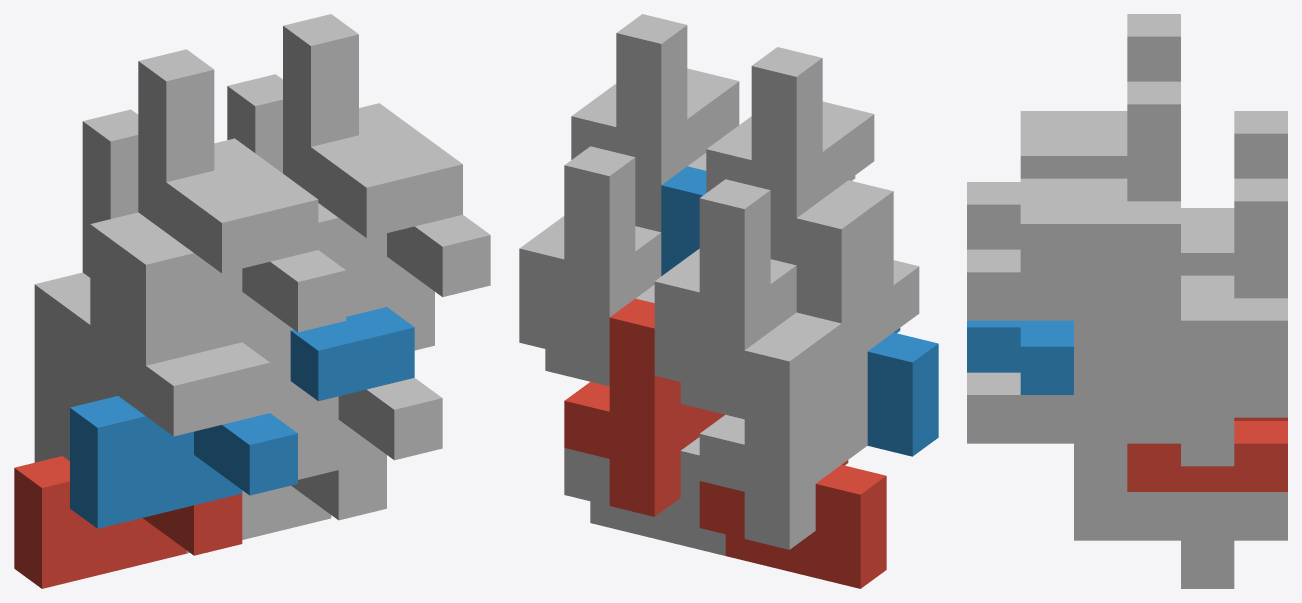
The model's file is tiling.obj.
3 views of the same model, side by side, from view 1: azimuth 30°, elevation 25°; view 2: azimuth 150°, elevation 25°; view 3: azimuth 270°, elevation 25° (orthographic). The views are drawn at different scales.
Parts seen in each view (by area): view 1: copy_2_domain_4, copy_2_domain_8, copy_1_domain_4, copy_1_domain_2, copy_2_domain_2, copy_1_domain_1, copy_1_domain_8, copy_1_domain_6, copy_2_domain_6, copy_1_domain_5, copy_2_domain_3, copy_2_domain_1 (+3 smaller); view 2: copy_2_domain_1, copy_2_domain_4, copy_2_domain_8, copy_2_domain_3, copy_2_domain_7, copy_2_domain_5, copy_2_domain_2, copy_1_domain_1, copy_1_domain_2, copy_1_domain_3, copy_1_domain_5, copy_1_domain_7 (+2 smaller); view 3: copy_2_domain_8, copy_2_domain_7, copy_1_domain_8, copy_1_domain_7, copy_1_domain_5, copy_1_domain_6, copy_2_domain_4, copy_2_domain_5, copy_2_domain_3, copy_2_domain_6, copy_1_domain_4, copy_1_domain_2.
Boxes of the visible parts, x1,y1,x2,y2 form: copy_2_domain_4: [138, 49, 318, 273]; copy_2_domain_8: [283, 14, 462, 237]; copy_1_domain_4: [118, 233, 346, 365]; copy_1_domain_2: [70, 396, 297, 528]; copy_2_domain_2: [90, 212, 269, 436]; copy_1_domain_1: [14, 456, 242, 588]; copy_1_domain_8: [290, 203, 490, 330]; copy_1_domain_6: [242, 378, 442, 493]; copy_2_domain_6: [290, 307, 414, 401]; copy_1_domain_5: [186, 458, 386, 553]; copy_2_domain_3: [82, 109, 138, 277]; copy_2_domain_1: [34, 272, 90, 462]; copy_2_domain_1: [699, 331, 867, 549]; copy_2_domain_4: [706, 47, 874, 265]; copy_2_domain_8: [571, 14, 739, 232]; copy_2_domain_3: [654, 179, 796, 397]; copy_2_domain_7: [519, 146, 661, 364]; copy_2_domain_5: [564, 298, 724, 516]; copy_2_domain_2: [796, 199, 919, 416]; copy_1_domain_1: [699, 460, 886, 588]; copy_1_domain_2: [867, 328, 938, 456]; copy_1_domain_3: [654, 312, 841, 435]; copy_1_domain_5: [564, 437, 725, 555]; copy_1_domain_7: [519, 285, 654, 386]; copy_2_domain_8: [1020, 81, 1180, 272]; copy_2_domain_7: [1127, 178, 1287, 369]; copy_1_domain_8: [967, 249, 1180, 369]; copy_1_domain_7: [1074, 369, 1287, 466]; copy_1_domain_5: [1074, 492, 1287, 588]; copy_1_domain_6: [967, 372, 1180, 491]; copy_2_domain_4: [1020, 14, 1180, 178]; copy_2_domain_5: [1127, 417, 1287, 491]; copy_2_domain_3: [1181, 111, 1287, 275]; copy_2_domain_6: [1020, 320, 1073, 394]; copy_1_domain_4: [967, 182, 1020, 249]; copy_1_domain_2: [967, 320, 1020, 372].
Size of the model in its own units: 7 by 10 by 6.
